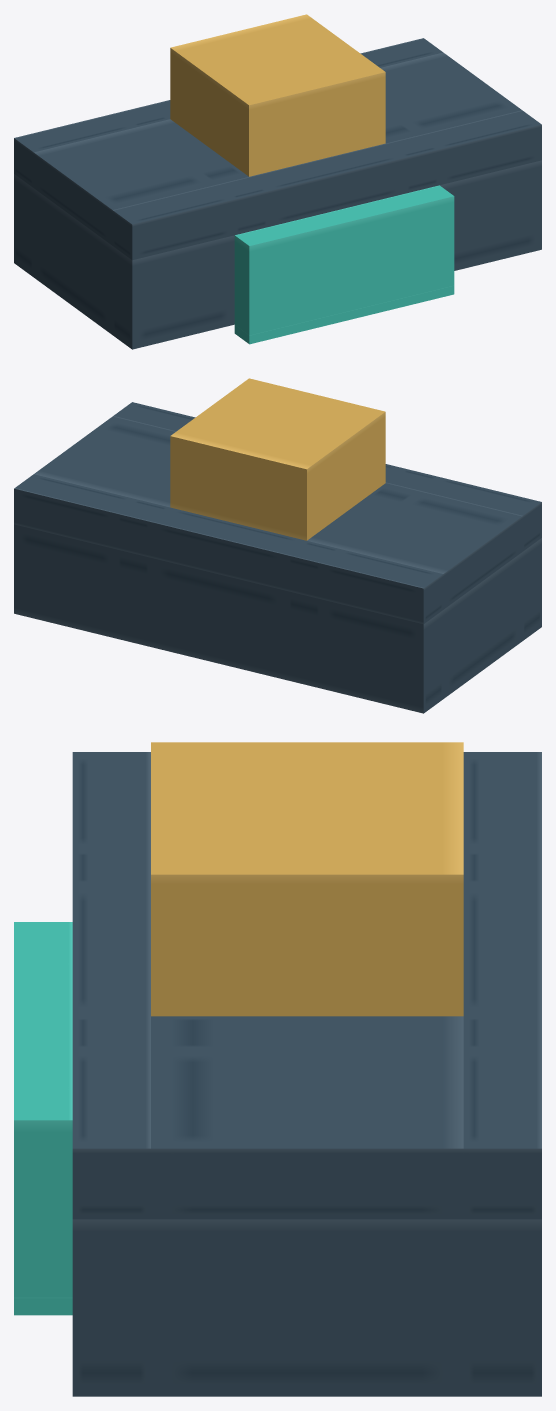
The model's file is sc_arm_claw.obj.
The picture shows the model from 3 angles, top to bottom: view 1: azimuth 30°, elevation 25°; view 2: azimuth 150°, elevation 25°; view 3: azimuth 270°, elevation 25°; orthographic projection. The views are drawn at different scales.
Size of the model in its own units: 4.8 by 2.3 by 2.7.
1 material, 1 textured.
